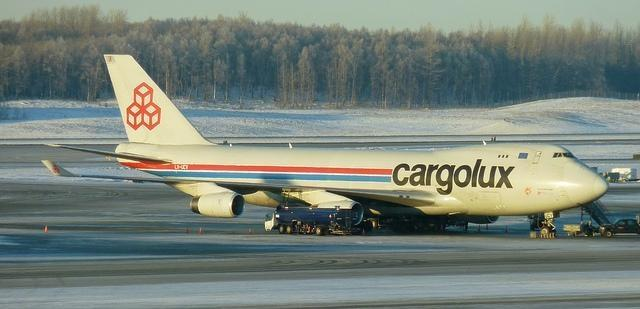car: (598, 215, 640, 238)
